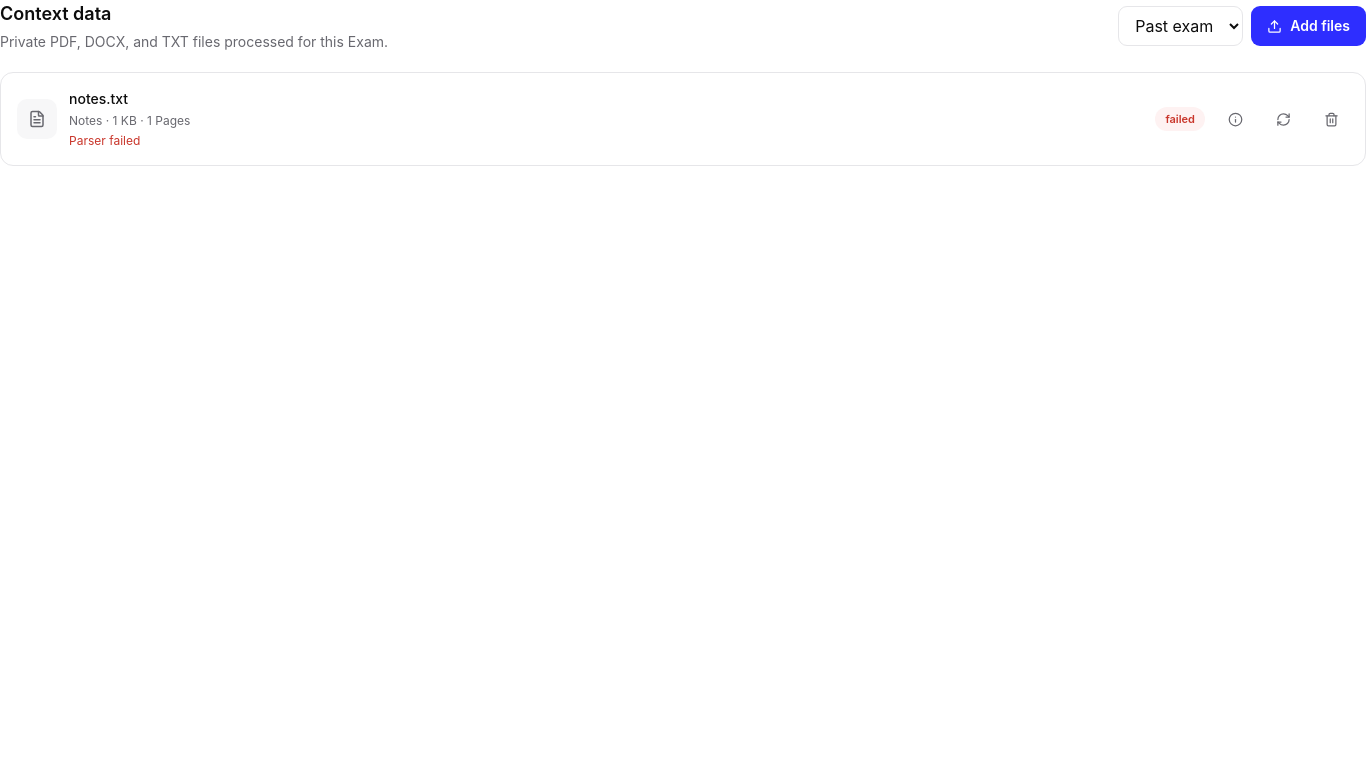
ArtifactManager › guards retry and confirmed delete against duplicate in-flight requests
Click the button named "Retry notes.txt" at (1283, 119), box x1=1265 y1=101 x2=1301 y2=137
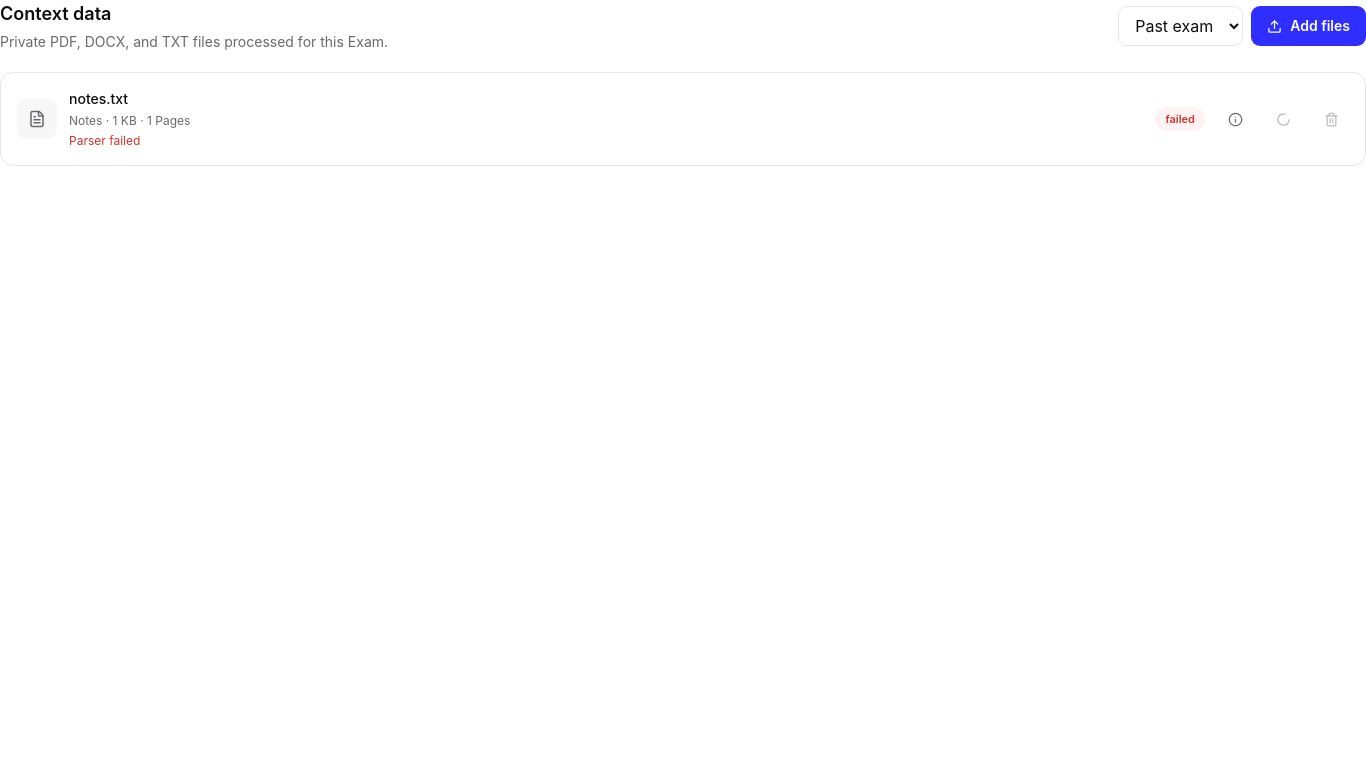
Click the button named "Retry notes.txt" at (1283, 119), box x1=1265 y1=101 x2=1301 y2=137
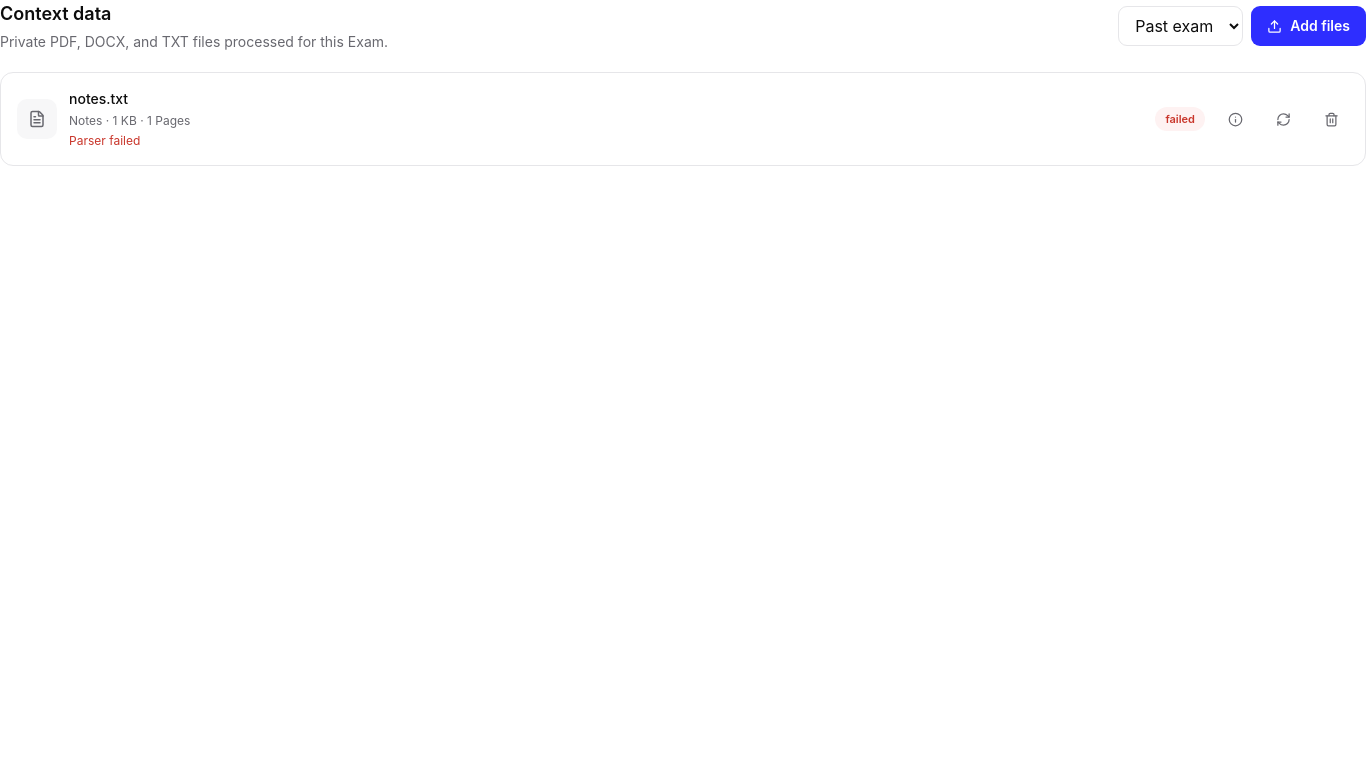
Click the button named "Delete notes.txt" at (1331, 119), box x1=1313 y1=101 x2=1349 y2=137
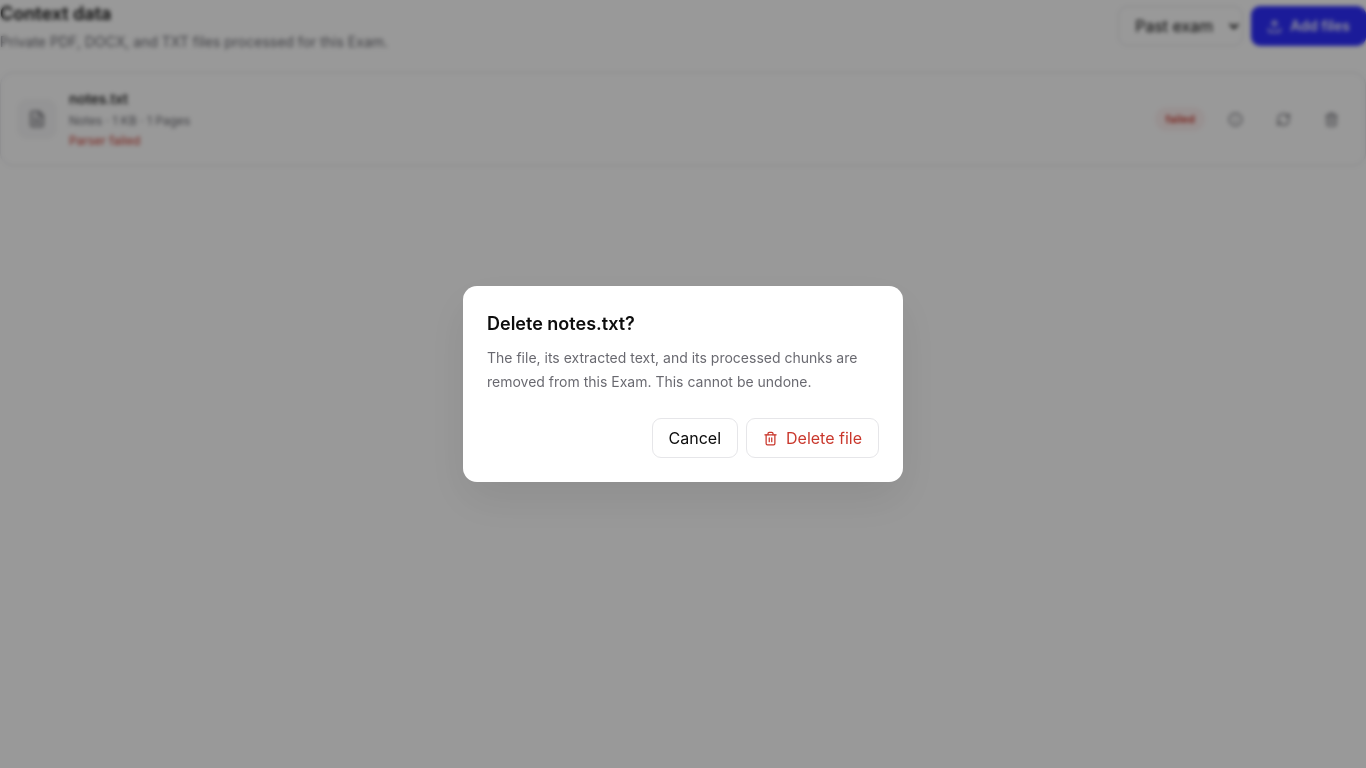
Click the button "Delete file" at (812, 438), box x1=746 y1=418 x2=879 y2=458
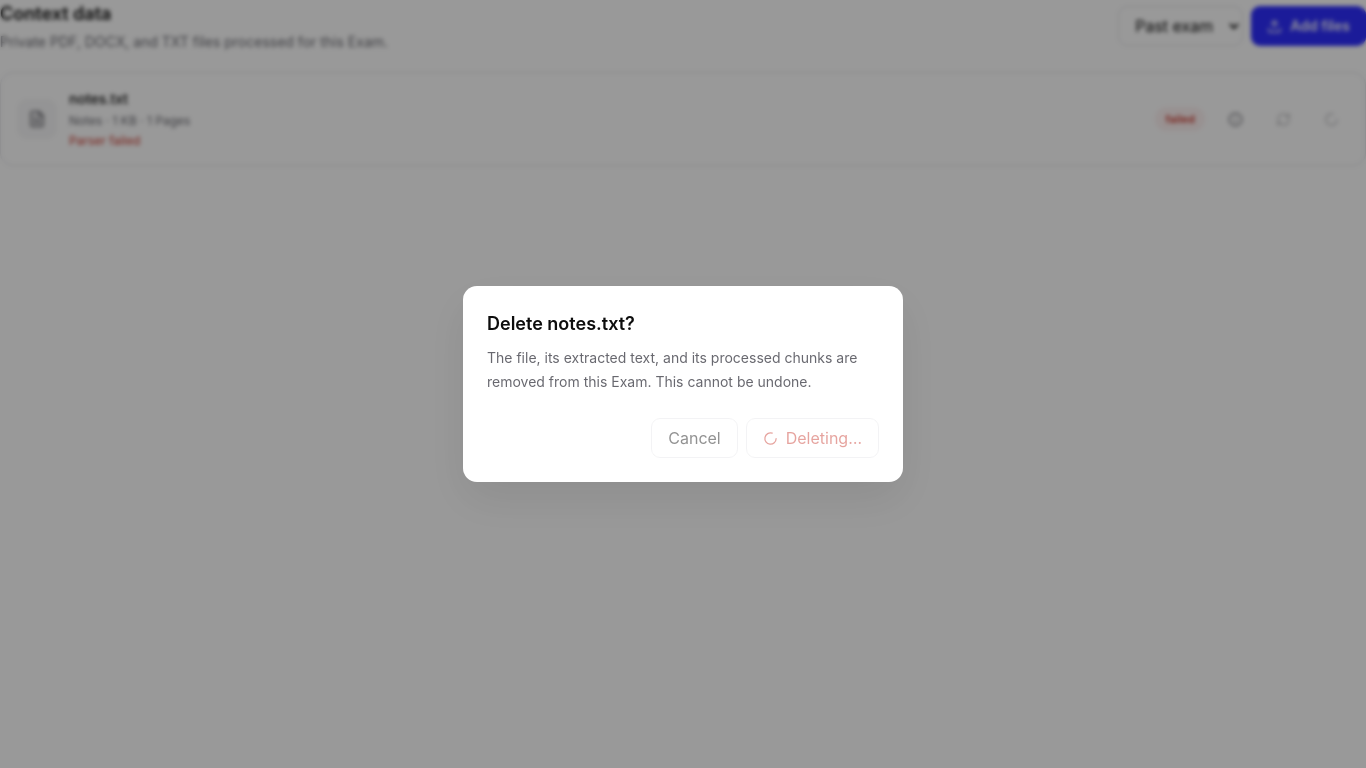
Click the button named "Delete file" at (812, 438), box x1=746 y1=418 x2=879 y2=458
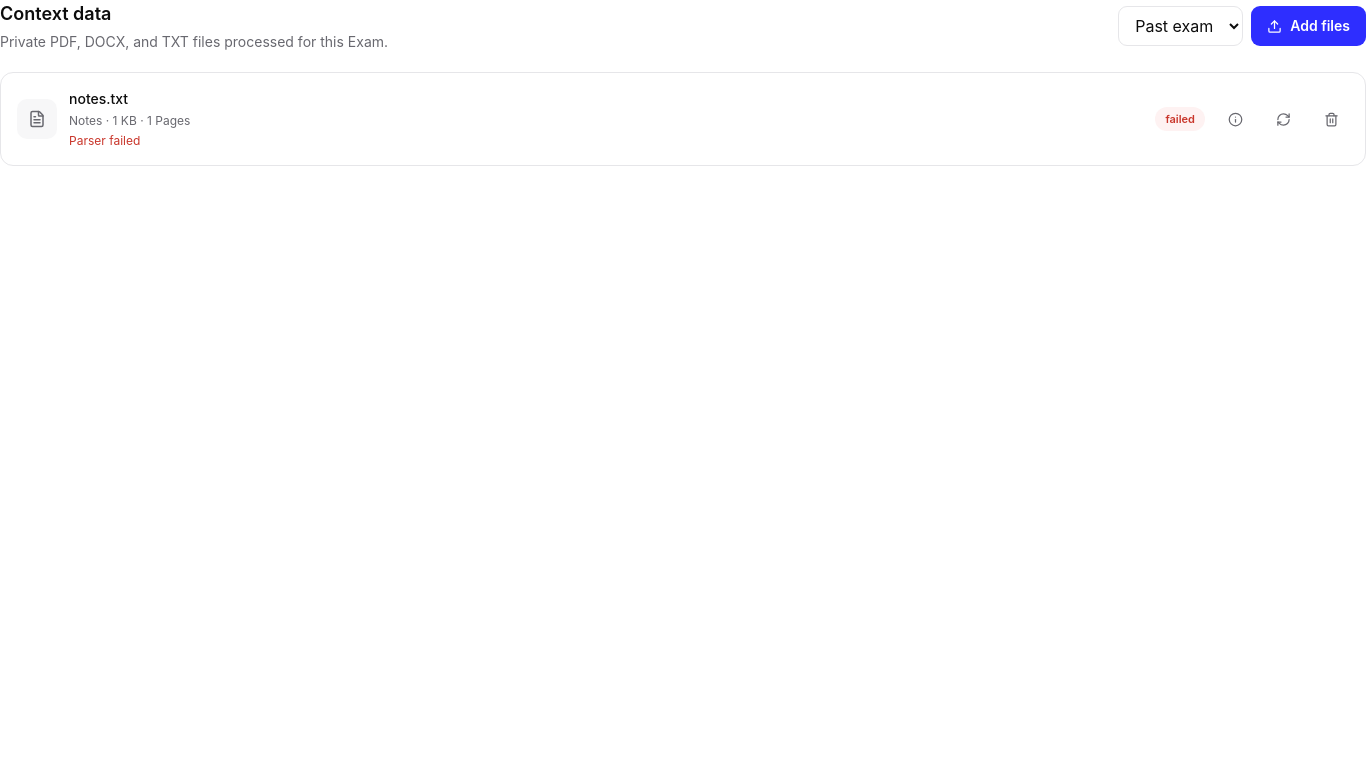
Now the dialog is gone
